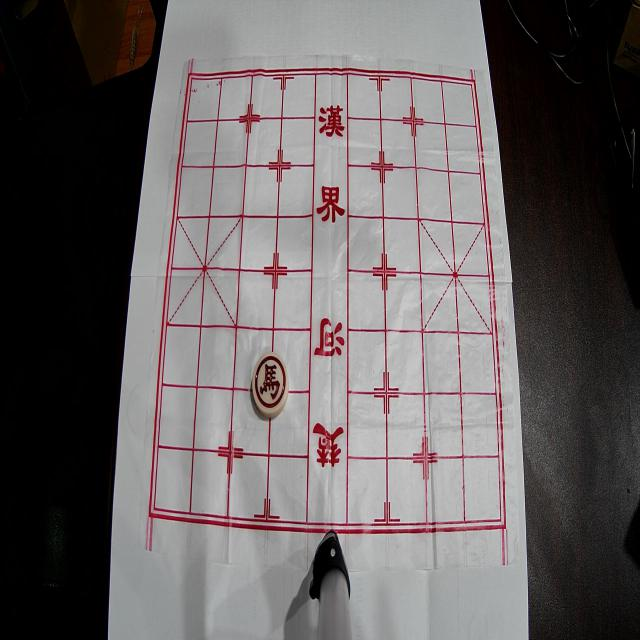red-horse: (252, 352, 289, 418)
